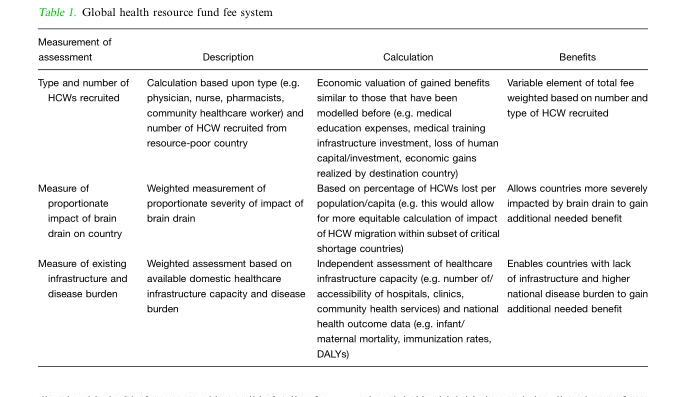table: (36, 36, 647, 358)
table column: (310, 36, 502, 358), (136, 36, 310, 358), (502, 36, 647, 358), (36, 36, 136, 358)
table column header: (36, 36, 647, 69)
table row: (36, 69, 647, 180), (36, 255, 647, 358), (36, 180, 647, 255), (36, 36, 647, 69)
